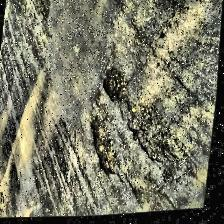pothole: (83, 110, 129, 182), (99, 60, 133, 110)
